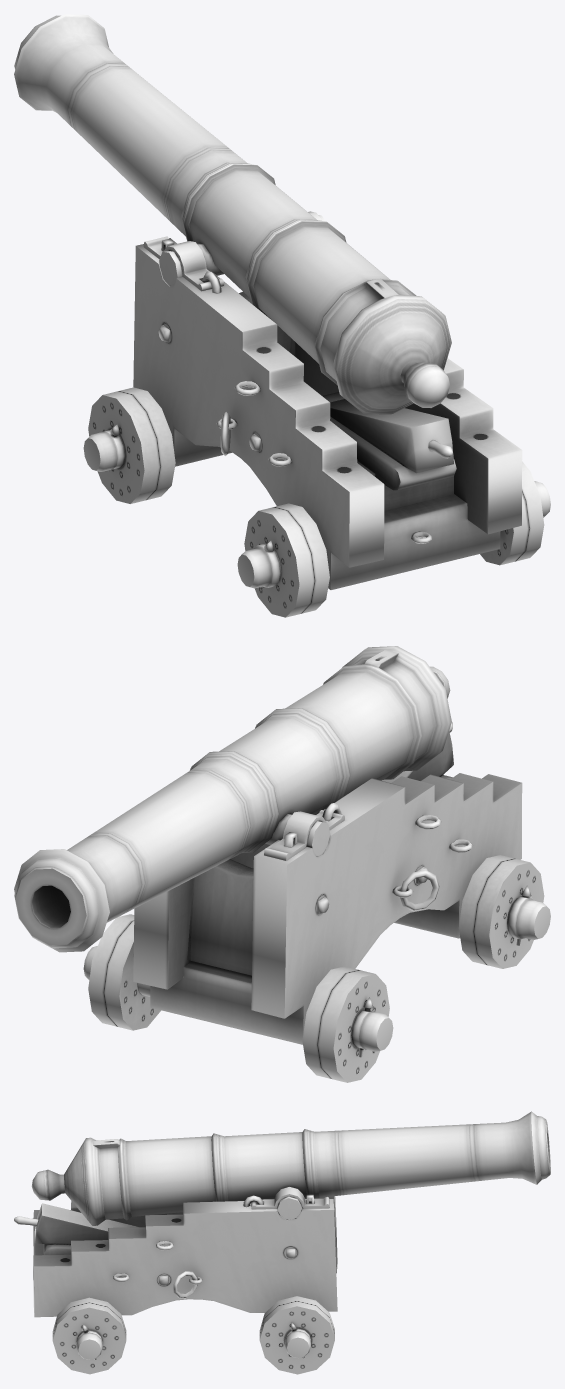
Rendered from cannon_LOD1.fbx.
3 views of the same model, one above another, from view 1: azimuth 30°, elevation 25°; view 2: azimuth 150°, elevation 25°; view 3: azimuth 270°, elevation 25° (orthographic). The views are drawn at different scales.
Visible parts, largest first — view 1: Cannon_LOD1; view 2: Cannon_LOD1; view 3: Cannon_LOD1.
Boxes of the visible parts, x1,y1,x2,y2 form: Cannon_LOD1: [14, 14, 550, 617]; Cannon_LOD1: [14, 646, 550, 1082]; Cannon_LOD1: [14, 1111, 550, 1374].
Size of the model in its own units: 134 by 141 by 312.
